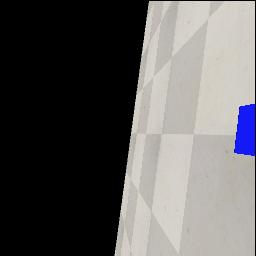box: (234, 104, 256, 156)
